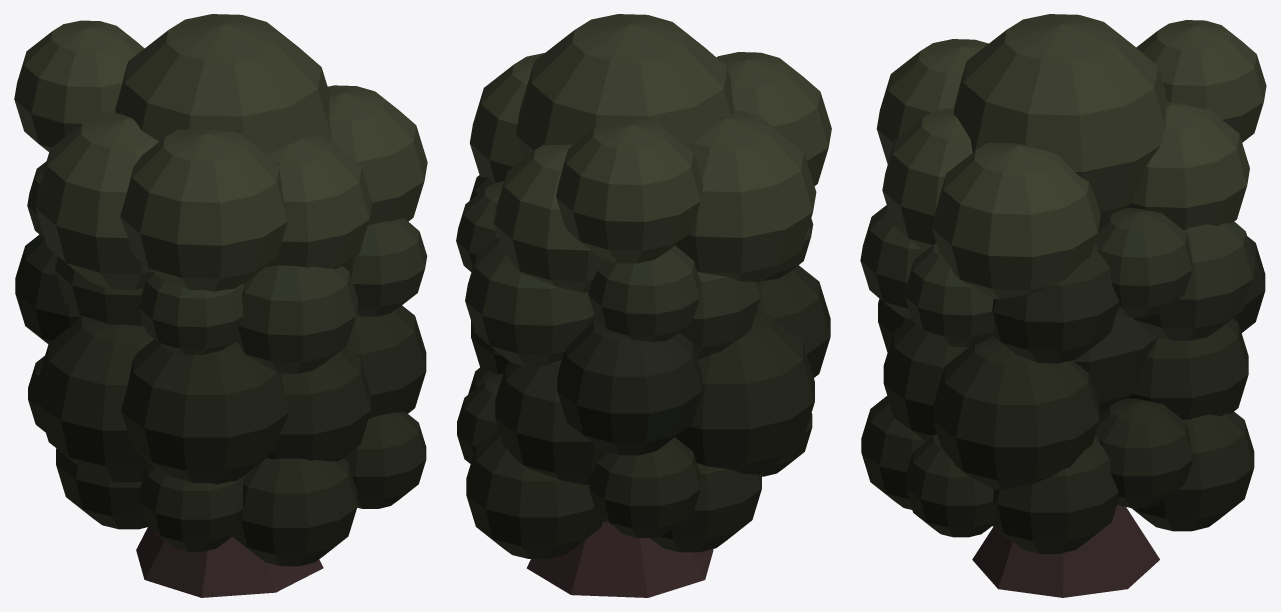
The model's file is Tall_Bush.gltf.
3 renders of one model, left to right at view 1: azimuth 30°, elevation 25°; view 2: azimuth 150°, elevation 25°; view 3: azimuth 270°, elevation 25°, orthographic.
Visible parts, largest first — view 1: sphere (×21), mesh; view 2: sphere (×21), mesh; view 3: sphere (×22), mesh.
Part boxes in pixels (x1=…): sphere (×21): x1=14, y1=14, x2=427, y2=566; mesh: x1=136, y1=527, x2=323, y2=597; sphere (×21): x1=456, y1=14, x2=831, y2=558; mesh: x1=526, y1=519, x2=713, y2=597; sphere (×22): x1=860, y1=14, x2=1266, y2=553; mesh: x1=972, y1=504, x2=1159, y2=597.
Bounding box in the file's own units: 0.2234 × 0.3313 × 0.2294.
1 material, 1 textured.
